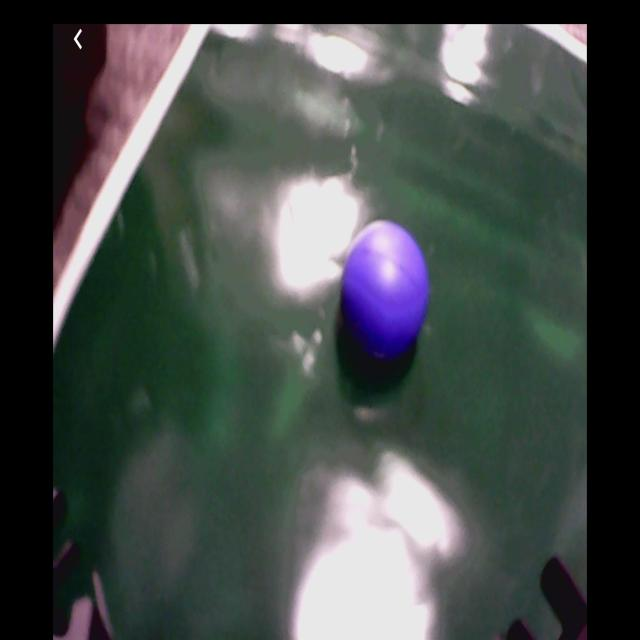ball: (341, 223, 428, 353)
